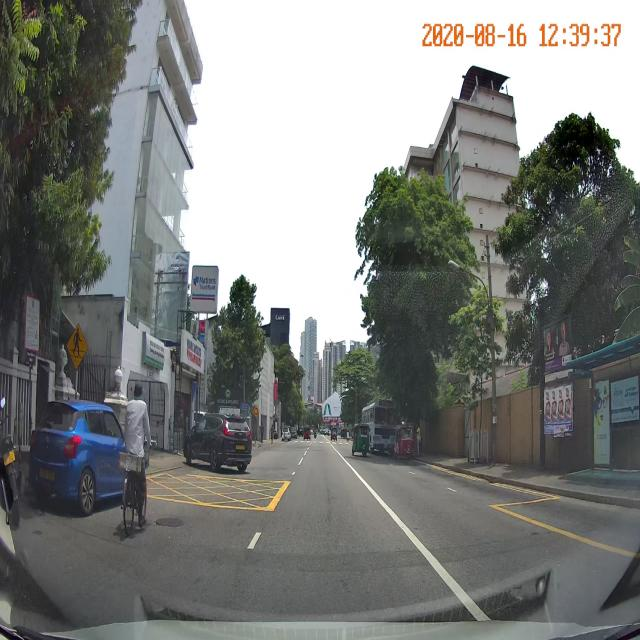Jeltaya razmetka: (145, 470, 292, 512)
